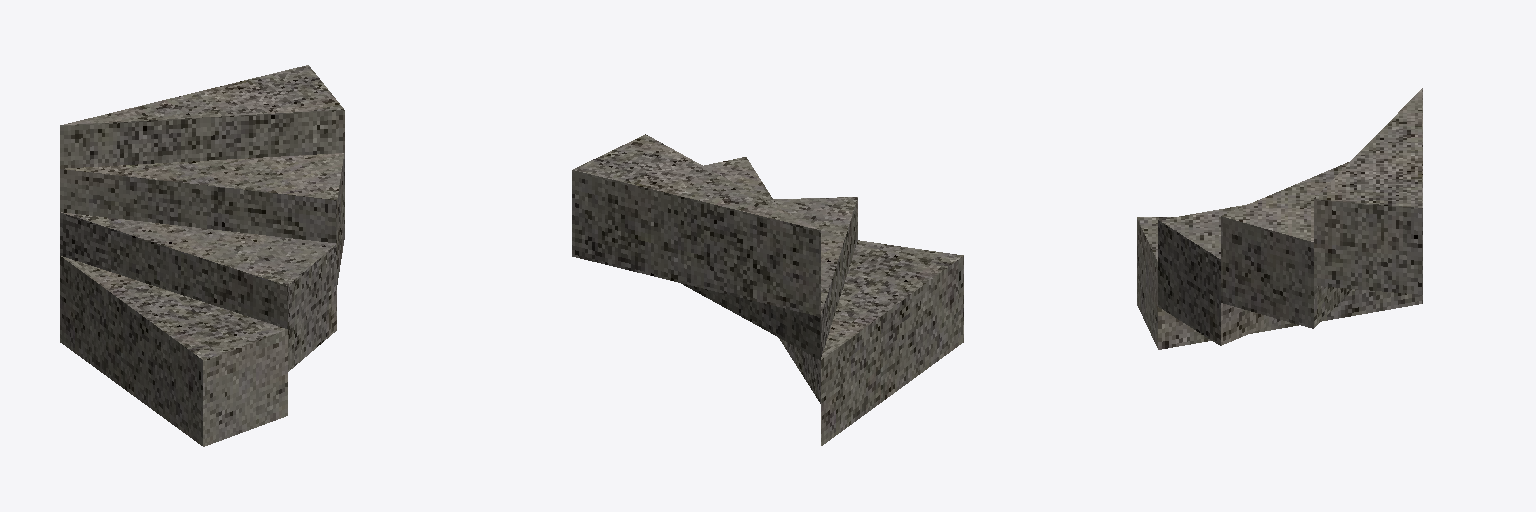
3 views of the same model, side by side, from view 1: azimuth 30°, elevation 25°; view 2: azimuth 150°, elevation 25°; view 3: azimuth 270°, elevation 25° (orthographic).
Size of the model in its own units: 1 by 0.8333 by 1.
Materials: 1 (1 with a texture image).